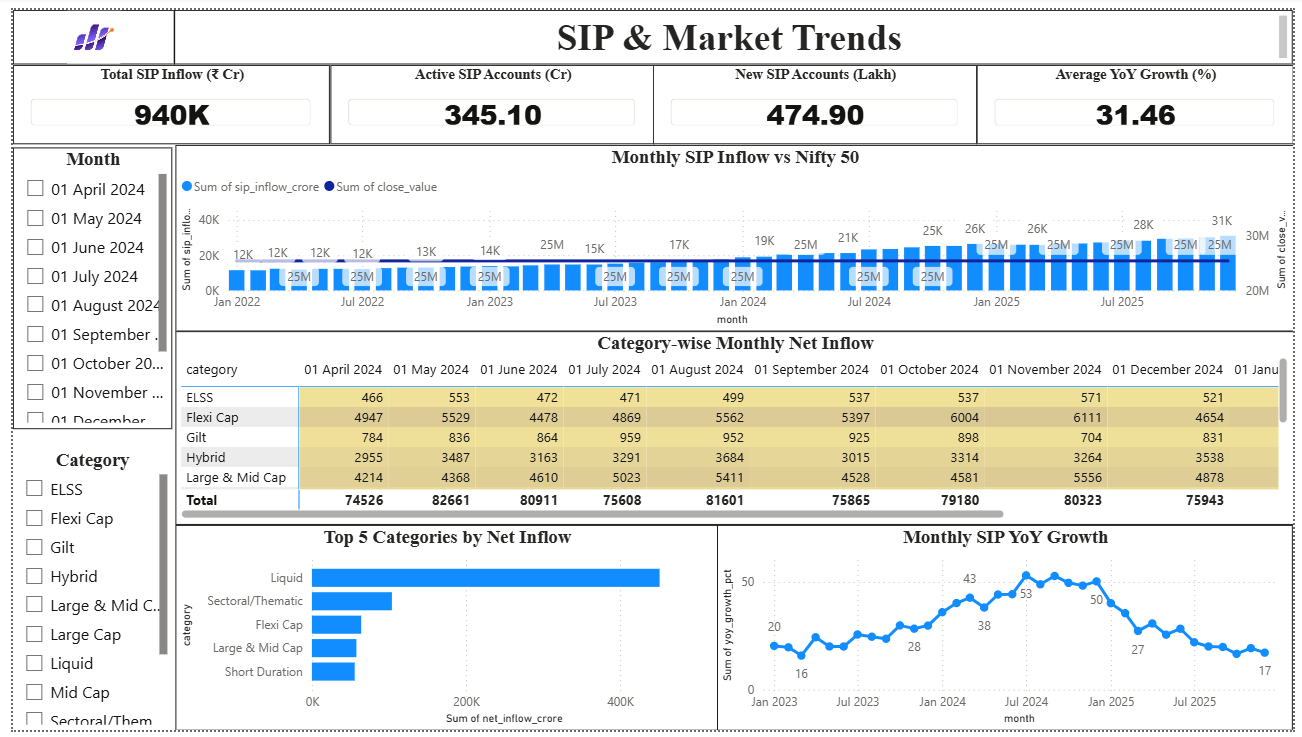

What the dashboard file says about the page in this screenshot:
{"tool":"powerbi","page":{"name":"SIP & Market Trends","canvas":[1280,720],"ordinal":3},"visuals":[{"type":"textbox","box":[161.6,0,1118.6,54.7],"z":0},{"type":"cardVisual","title":"Total SIP Inflow (₹ Cr)","fields":{"Data":["Sum(04_monthly_sip_inflows_clean.sip_inflow_crore)"]},"box":[0,54.9,317,79.6],"z":1000},{"type":"cardVisual","title":"Active SIP Accounts (Cr)","fields":{"Data":["Sum(04_monthly_sip_inflows_clean.active_sip_accounts_crore)"]},"box":[317,54.9,323.8,79.6],"z":2000},{"type":"cardVisual","title":"Average YoY Growth (%)","fields":{"Data":["Avg(04_monthly_sip_inflows_clean.yoy_growth_pct)"]},"box":[963.3,54.9,317,79.6],"z":3000},{"type":"cardVisual","title":"New SIP Accounts (Lakh)","fields":{"Data":["Sum(04_monthly_sip_inflows_clean.new_sip_accounts_lakh)"]},"box":[639.5,54.9,323.8,79.6],"z":4000},{"type":"lineClusteredColumnComboChart","title":"Monthly SIP Inflow vs Nifty 50","fields":{"Y":["Sum(04_monthly_sip_inflows_clean.sip_inflow_crore)"],"Category":["04_monthly_sip_inflows_clean.month"],"Y2":["Sum(10_benchmark_indices_clean.close_value)"]},"box":[161.9,134.5,1118.4,186.6],"z":5000},{"type":"pivotTable","title":"Category-wise Monthly Net Inflow","fields":{"Rows":["05_category_inflows_clean.category"],"Columns":["05_category_inflows_clean.month"],"Values":["Sum(05_category_inflows_clean.net_inflow_crore)"]},"box":[161.9,321.1,1118.4,193.5],"z":6000},{"type":"lineChart","title":"Monthly SIP YoY Growth","fields":{"Y":["Sum(04_monthly_sip_inflows_clean.yoy_growth_pct)"],"Category":["04_monthly_sip_inflows_clean.month"]},"box":[703.9,514.6,576.3,205.8],"z":7000},{"type":"clusteredBarChart","title":"Top 5 Categories by Net Inflow","fields":{"Category":["05_category_inflows_clean.category"],"Y":["Sum(05_category_inflows_clean.net_inflow_crore)"]},"box":[161.9,514.6,542,205.8],"z":8000},{"type":"slicer","title":"Month","fields":{"Values":["05_category_inflows_clean.month"]},"box":[0,137.2,159.2,281.3],"z":9000},{"type":"slicer","title":"Category","fields":{"Values":["05_category_inflows_clean.category"]},"box":[0,439.1,159.2,281.3],"z":10000},{"type":"image","box":[0,0,161.6,54.7],"z":10001}]}

Visuals, with their boxes in screenshot pixels (x1, y1, x2, y2), scaled from the page's 1280x720 canvas onto the 1302x737 screenshot:
textbox: rect(164, 0, 1301, 56)
"Total SIP Inflow (₹ Cr)" cardVisual: rect(0, 56, 322, 138)
"Active SIP Accounts (Cr)" cardVisual: rect(322, 56, 652, 138)
"Average YoY Growth (%)" cardVisual: rect(980, 56, 1301, 138)
"New SIP Accounts (Lakh)" cardVisual: rect(650, 56, 980, 138)
"Monthly SIP Inflow vs Nifty 50" lineClusteredColumnComboChart: rect(165, 138, 1301, 329)
"Category-wise Monthly Net Inflow" pivotTable: rect(165, 329, 1301, 527)
"Monthly SIP YoY Growth" lineChart: rect(716, 527, 1301, 736)
"Top 5 Categories by Net Inflow" clusteredBarChart: rect(165, 527, 716, 736)
"Month" slicer: rect(0, 140, 162, 428)
"Category" slicer: rect(0, 449, 162, 736)
image: rect(0, 0, 164, 56)
